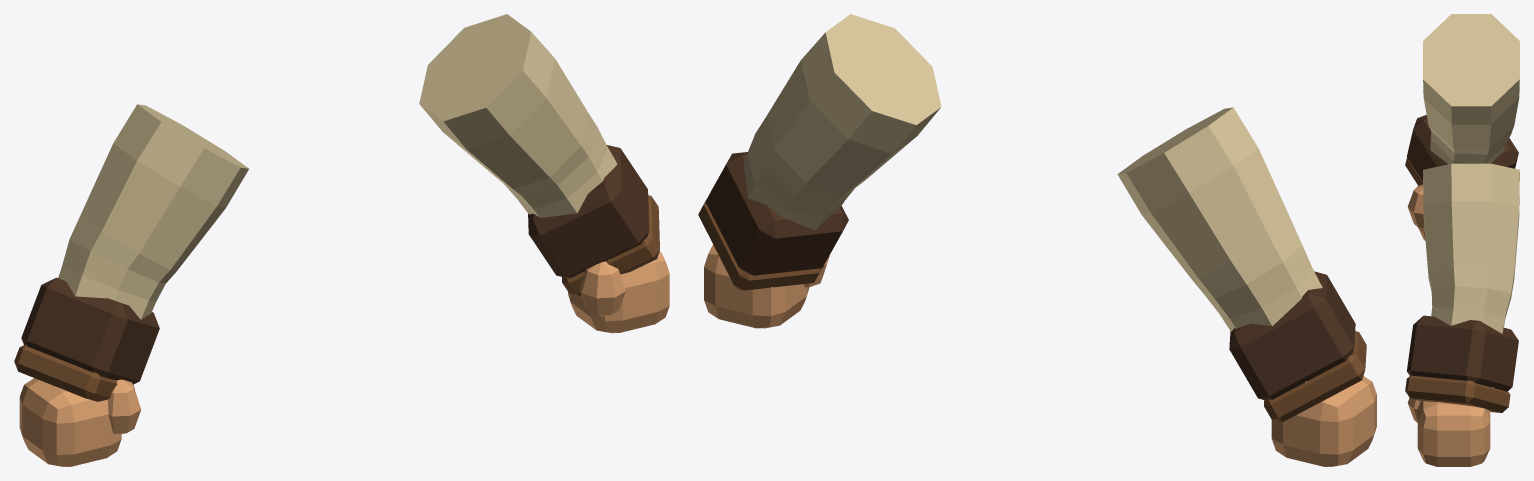
File: SM_NPC_Arms_03_Leather.glb
3 renders of one model, left to right at view 1: azimuth 30°, elevation 25°; view 2: azimuth 150°, elevation 25°; view 3: azimuth 270°, elevation 25°, orthographic. The views are drawn at different scales.
Visible parts, largest first — view 1: SM_NPC_Arms_03_Leather; view 2: SM_NPC_Arms_03_Leather; view 3: SM_NPC_Arms_03_Leather.
Boxes of the visible parts, <box> form: SM_NPC_Arms_03_Leather: <box>14,14,669,466</box>; SM_NPC_Arms_03_Leather: <box>698,14,1376,466</box>; SM_NPC_Arms_03_Leather: <box>1405,14,1519,466</box>.
Bounding box in the file's own units: 1.12 × 0.5243 × 0.2103.
